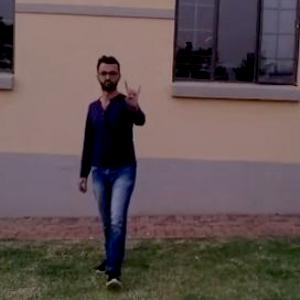takeoff-hand: (118, 76, 146, 113)
